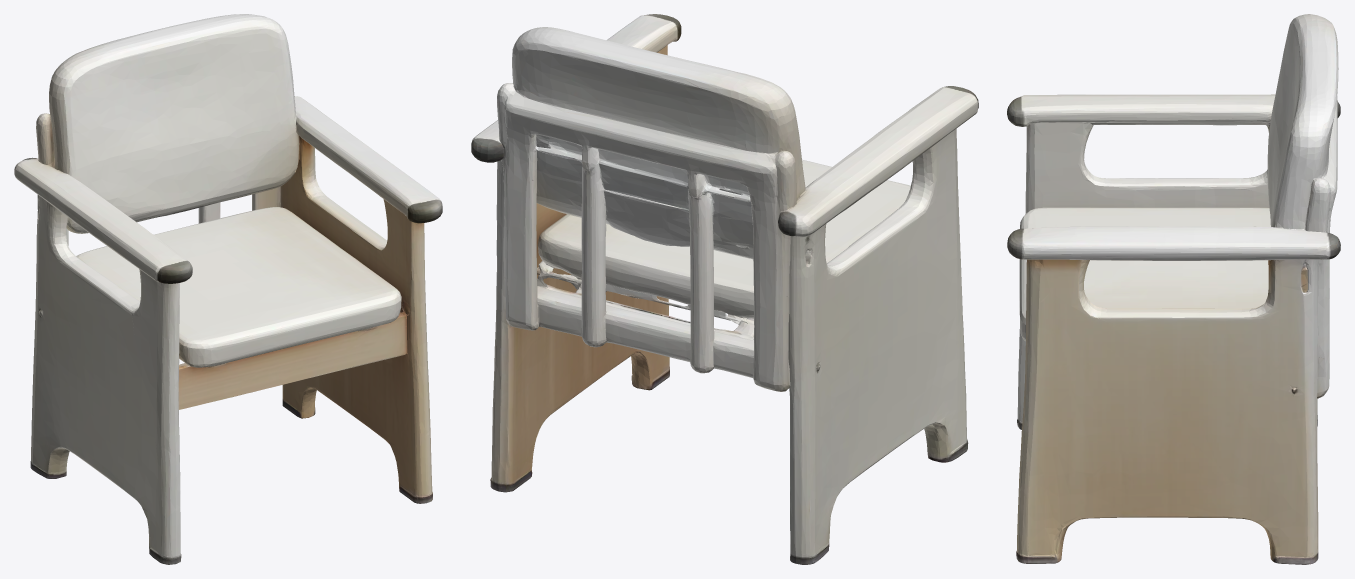
File: ast_ad67a8cd1fbf.glb
3 renders of one model, left to right at view 1: azimuth 30°, elevation 25°; view 2: azimuth 150°, elevation 25°; view 3: azimuth 270°, elevation 25°, orthographic. The views are drawn at different scales.
Visible parts, largest first — view 1: geometry_0; view 2: geometry_0; view 3: geometry_0.
Boxes of the visible parts, <box> form: geometry_0: <box>14,14,442,564</box>; geometry_0: <box>471,14,978,564</box>; geometry_0: <box>1007,14,1340,564</box>.
Size of the model in its own units: 0.7579 by 1 by 0.7011.
Materials: 1 (1 with a texture image).
